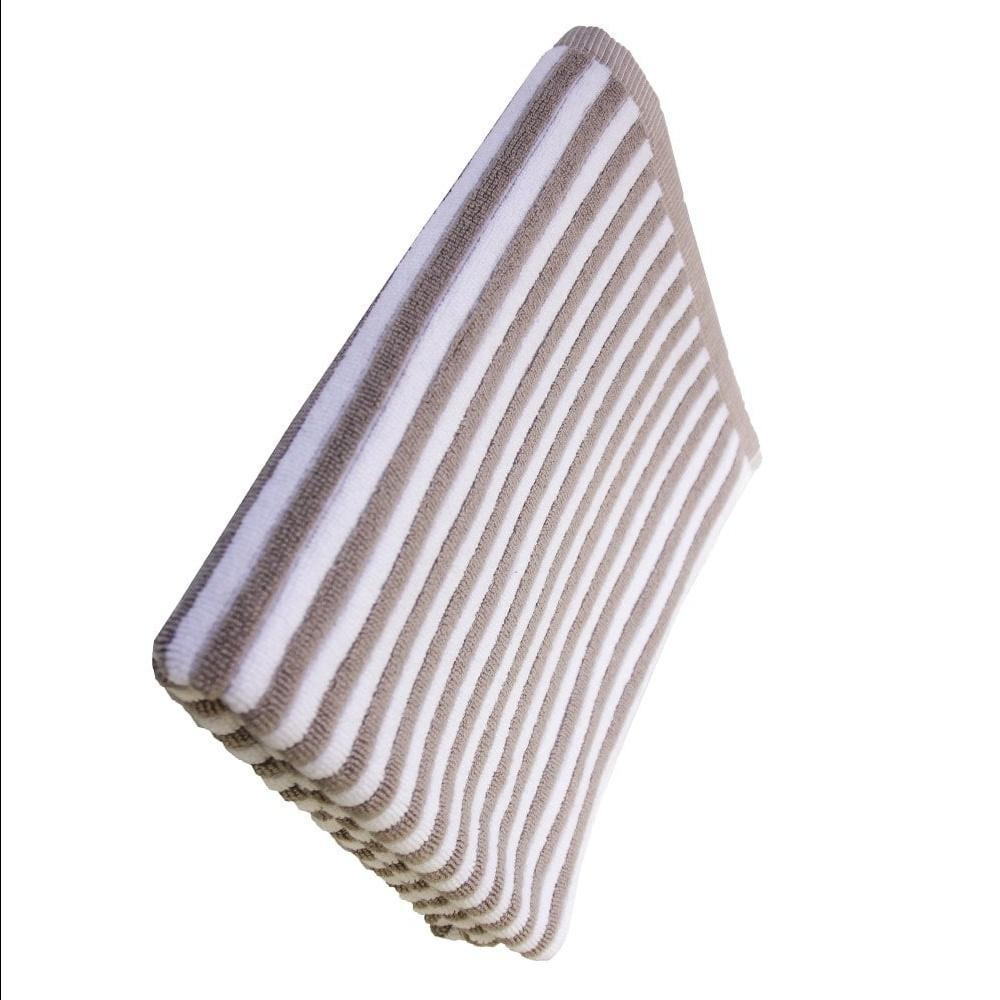towel: (105, 25, 940, 948)
